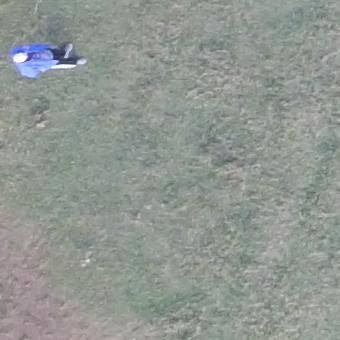human: (11, 38, 86, 81)
